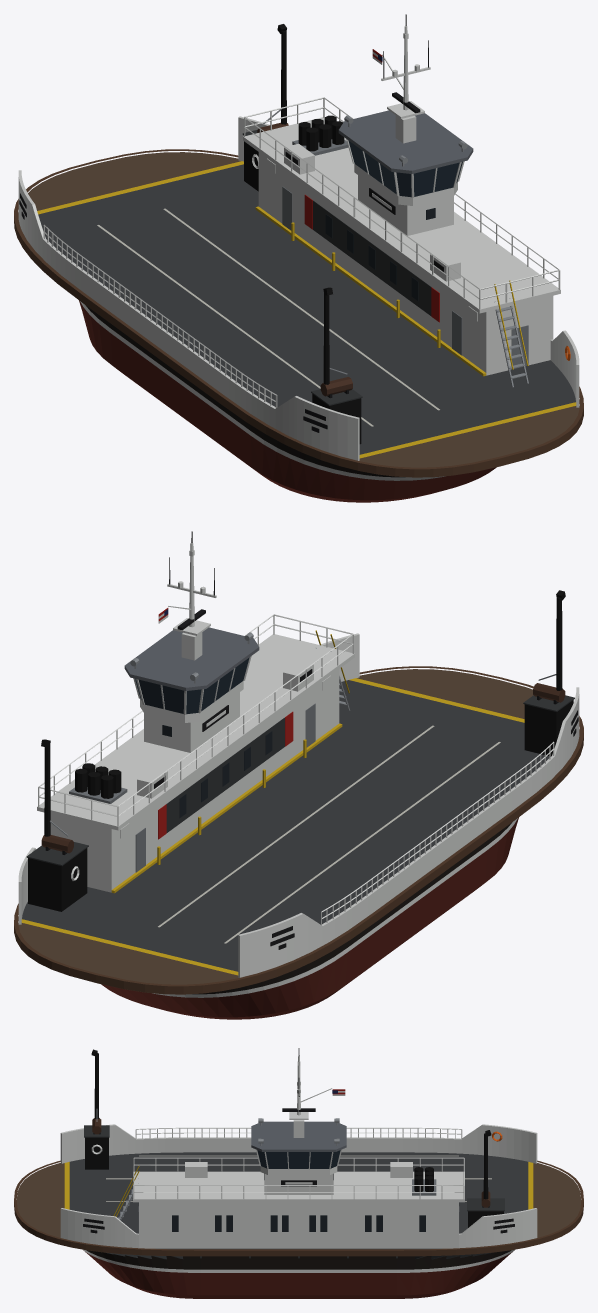
Rendered from guemes_mid.glb.
The picture shows the model from 3 angles, top to bottom: view 1: azimuth 30°, elevation 25°; view 2: azimuth 150°, elevation 25°; view 3: azimuth 270°, elevation 25°; orthographic projection. The views are drawn at different scales.
Visible parts, largest first — view 1: fixed, thinshadow, glass, window; view 2: fixed, thinshadow, glass, window; view 3: fixed, thinshadow, glass, window.
Boxes of the visible parts, x1,y1,x2,y2 form: fixed: (14,24,583,502); thinshadow: (43,14,560,408); glass: (348,140,462,197); window: (325,208,435,300); fixed: (14,543,583,1019); thinshadow: (38,531,556,925); glass: (135,657,249,714); window: (162,725,272,817); fixed: (14,1049,583,1298); thinshadow: (96,1048,464,1216); glass: (257,1150,340,1168); window: (172,1174,425,1231).
Bounding box in the file's own units: 15.88 × 18.35 × 37.8.
